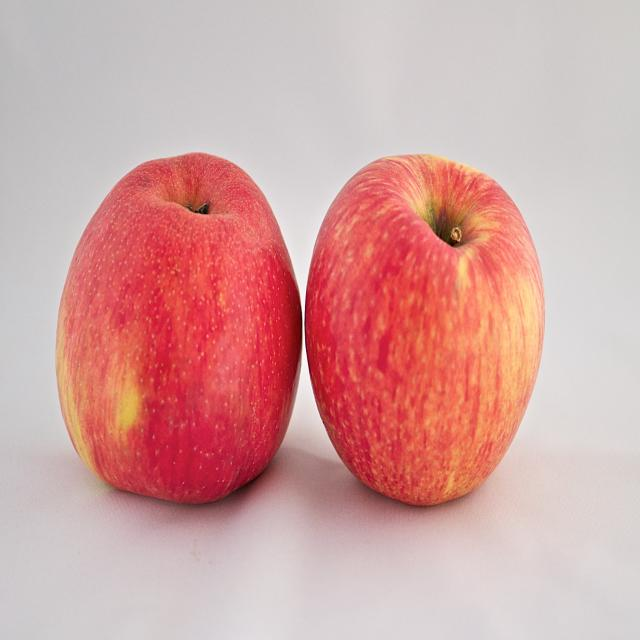Apple: (303, 154, 552, 514), (58, 147, 305, 509)
